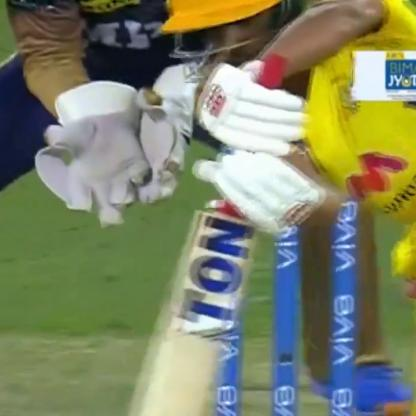bat: (136, 149, 266, 412)
